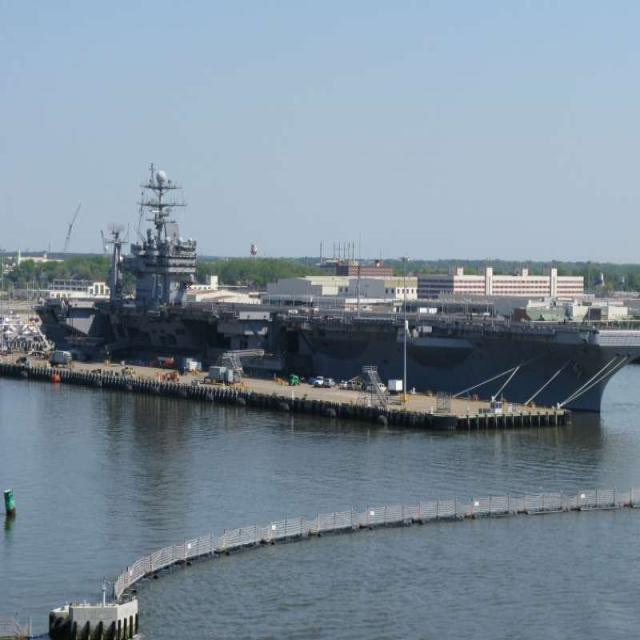Portanaves: (31, 157, 639, 432)
